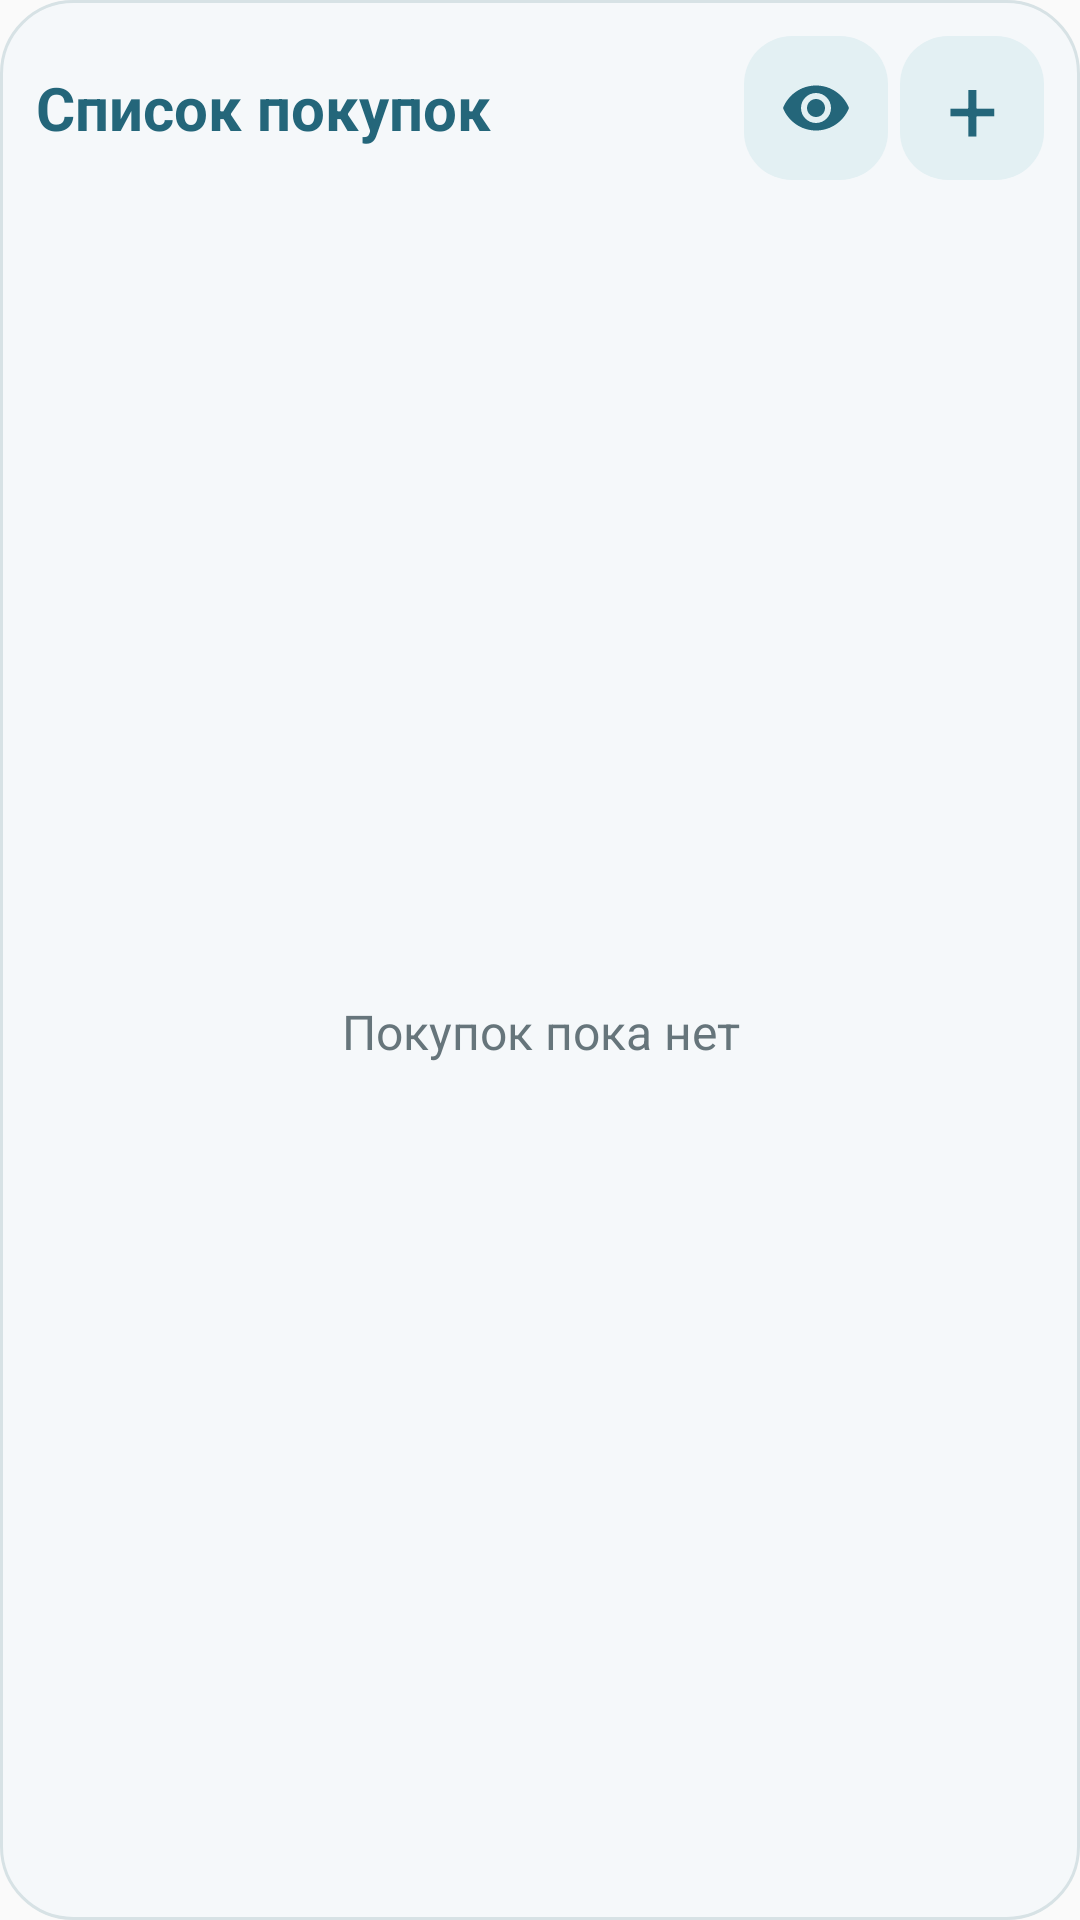

Screen size 1080×1920. Icon name, then its box in pixels as (x1, y1, x2, y2):
Скрыть купленные товары: (783, 85, 849, 131)
